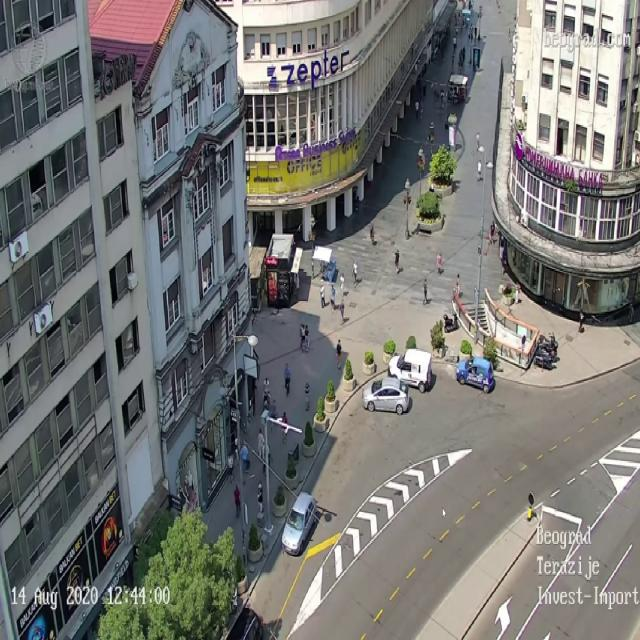car: (281, 491, 317, 556), (361, 378, 409, 415), (391, 349, 431, 390), (455, 356, 495, 394)
